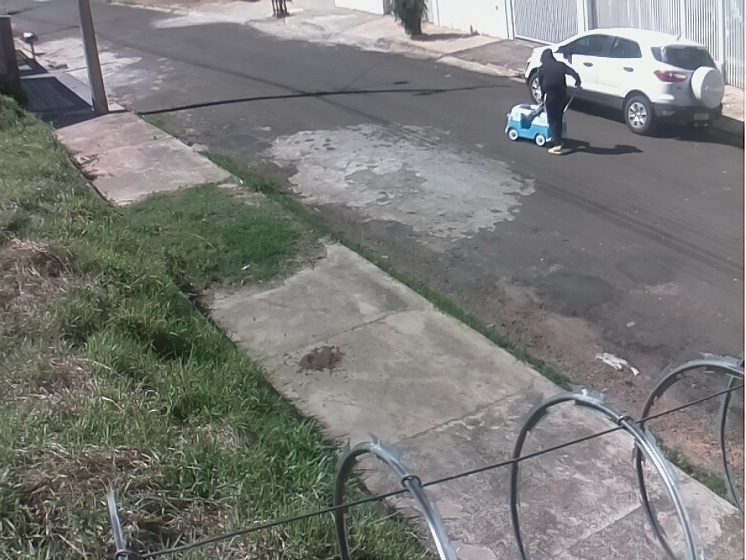person: (537, 48, 582, 156)
